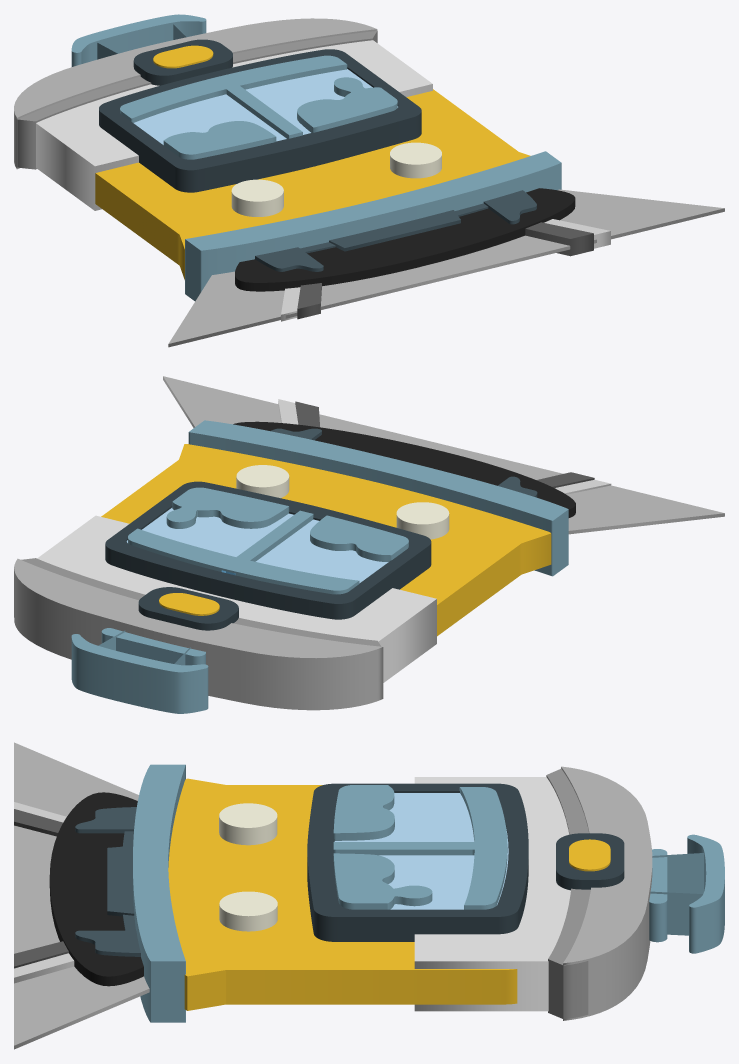
The model's file is emoji_u1f68a.glb.
3 views of the same model, one above another, from view 1: azimuth 30°, elevation 25°; view 2: azimuth 150°, elevation 25°; view 3: azimuth 270°, elevation 25° (orthographic). The views are drawn at different scales.
Parts seen in each view (by area): view 1: emoji_u1f68a; view 2: emoji_u1f68a; view 3: emoji_u1f68a.
Boxes of the visible parts, x1,y1,x2,y2 form: emoji_u1f68a: [14, 14, 724, 347]; emoji_u1f68a: [14, 376, 724, 713]; emoji_u1f68a: [14, 742, 724, 1049].
Size of the model in its own units: 0.0339 by 0.005 by 0.0335.
